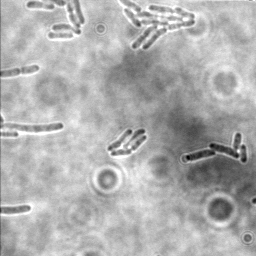Dividing: (1, 63, 41, 79), (208, 141, 241, 160)
Microcolony: (117, 1, 197, 53), (25, 1, 86, 42), (106, 126, 148, 157)
Rod: (1, 121, 65, 133), (184, 147, 216, 161), (1, 204, 32, 214), (231, 131, 243, 152), (239, 143, 248, 165)
